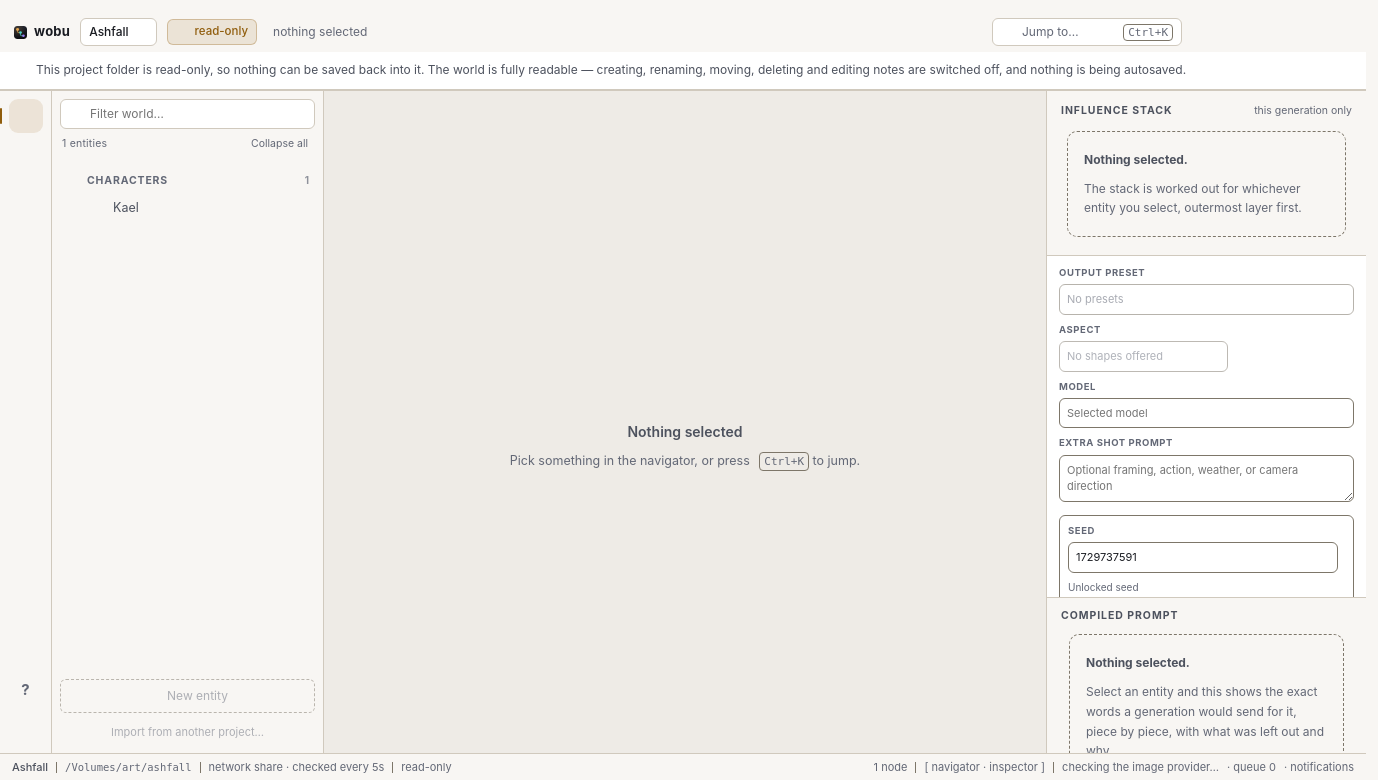
Test case: the write controls, on a read-only folder › leaves Enhance disabled, and says the share is why
Click the button "Kael" at (188, 209), box [60,195,315,223]
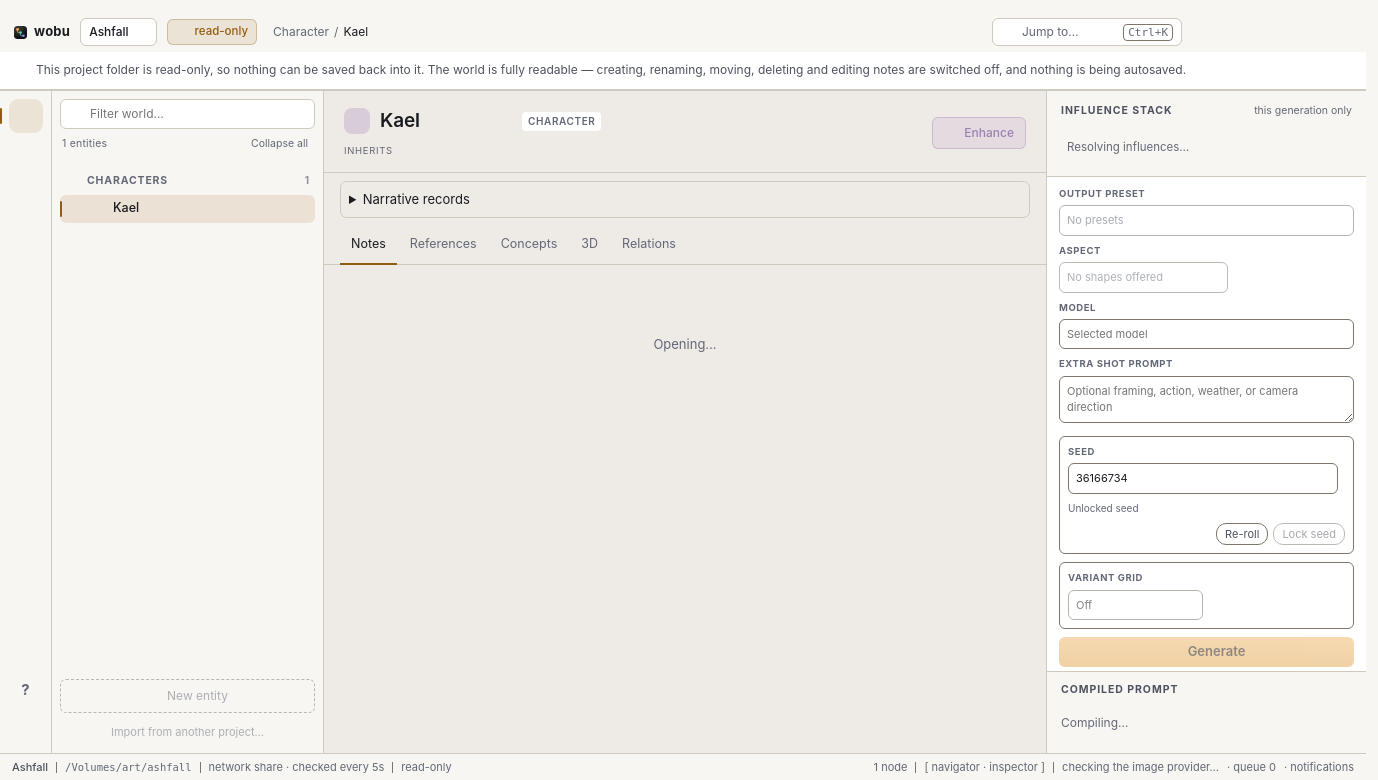
Focus the button "Enhance" at (979, 133), box [932,117,1026,149]
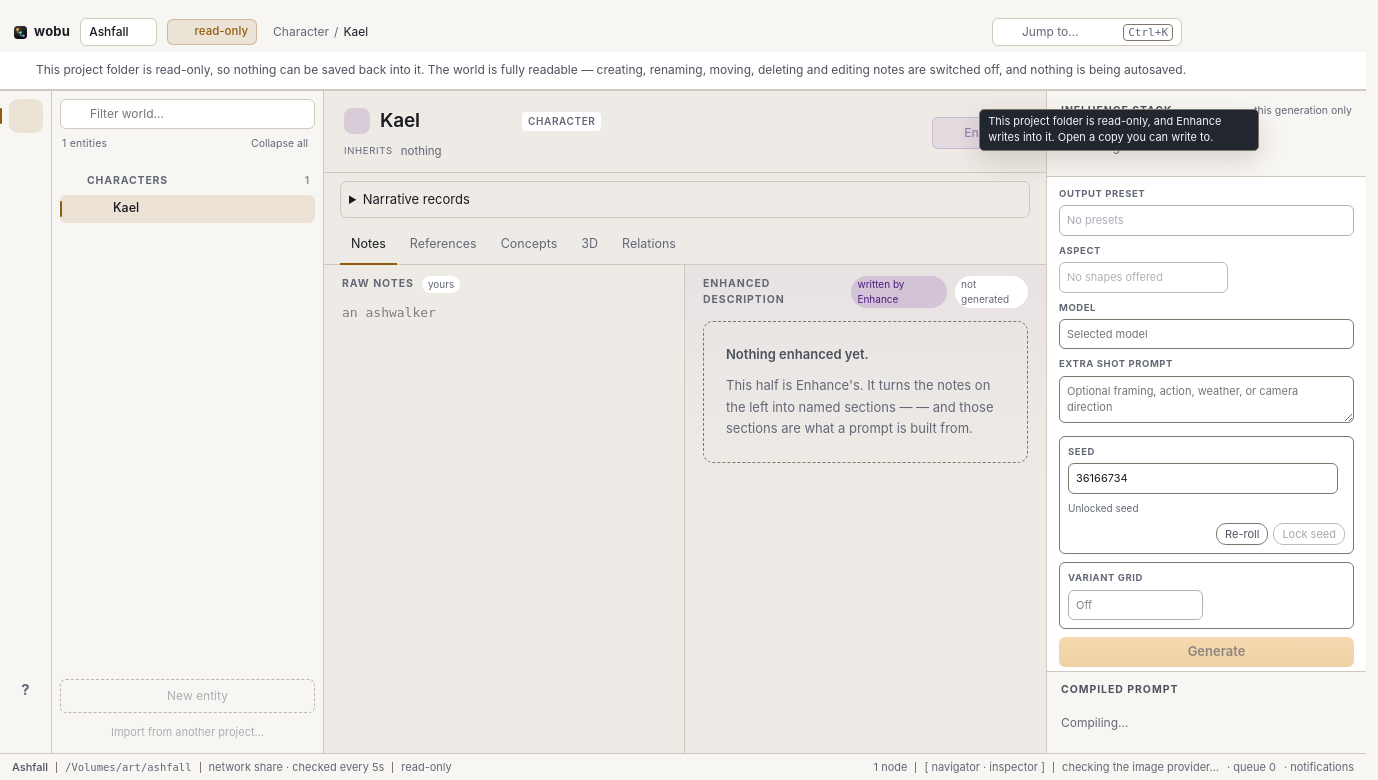
Expected: the tooltip shows "read-only", [988,114,1221,144]
